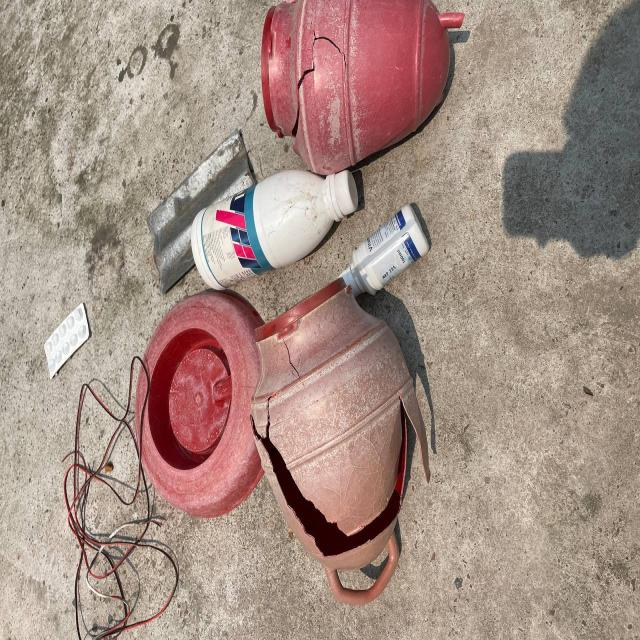Cable: (12, 387, 165, 640)
Medical Waste: (16, 304, 111, 375)
Metal: (136, 135, 190, 297)
Plastics: (142, 302, 476, 550), (236, 0, 501, 142), (200, 165, 428, 286)
